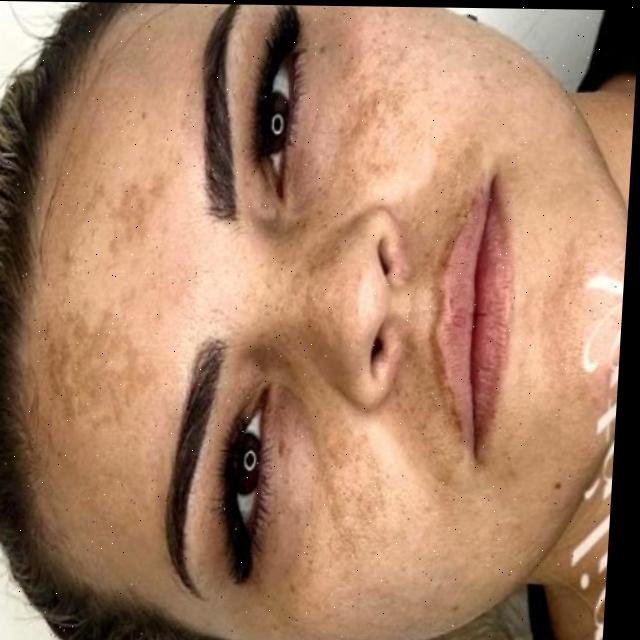Melasma: (10, 118, 220, 424), (265, 87, 394, 538)
